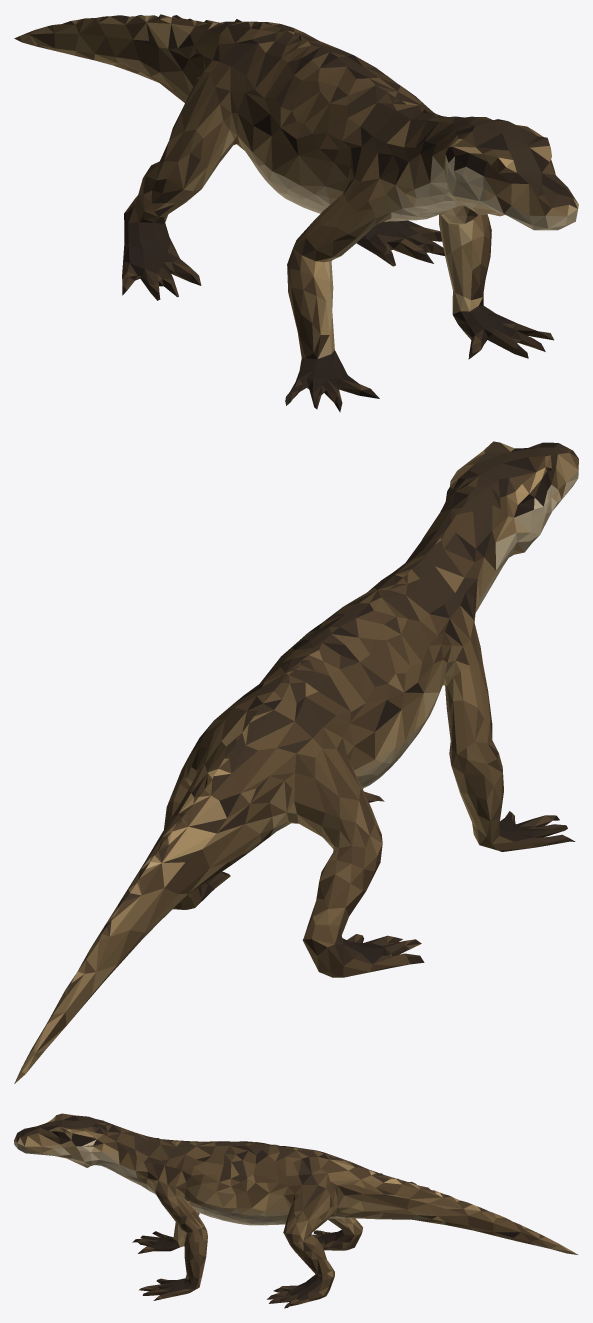
The model's file is varanus_niloticus.glb.
3 renders of one model, top to bottom at view 1: azimuth 30°, elevation 25°; view 2: azimuth 150°, elevation 25°; view 3: azimuth 270°, elevation 25°, orthographic. The views are drawn at different scales.
Visible parts, largest first — view 1: lod0; view 2: lod0; view 3: lod0.
Part boxes in pixels (x1,y1,x2,y2): lod0: (14, 14, 578, 412); lod0: (14, 441, 578, 1083); lod0: (14, 1113, 577, 1308).
Size of what is drawn, in the model's own units: 0.2336 by 0.2182 by 0.7347.
